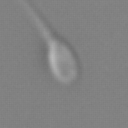normal: (18, 1, 58, 40)
